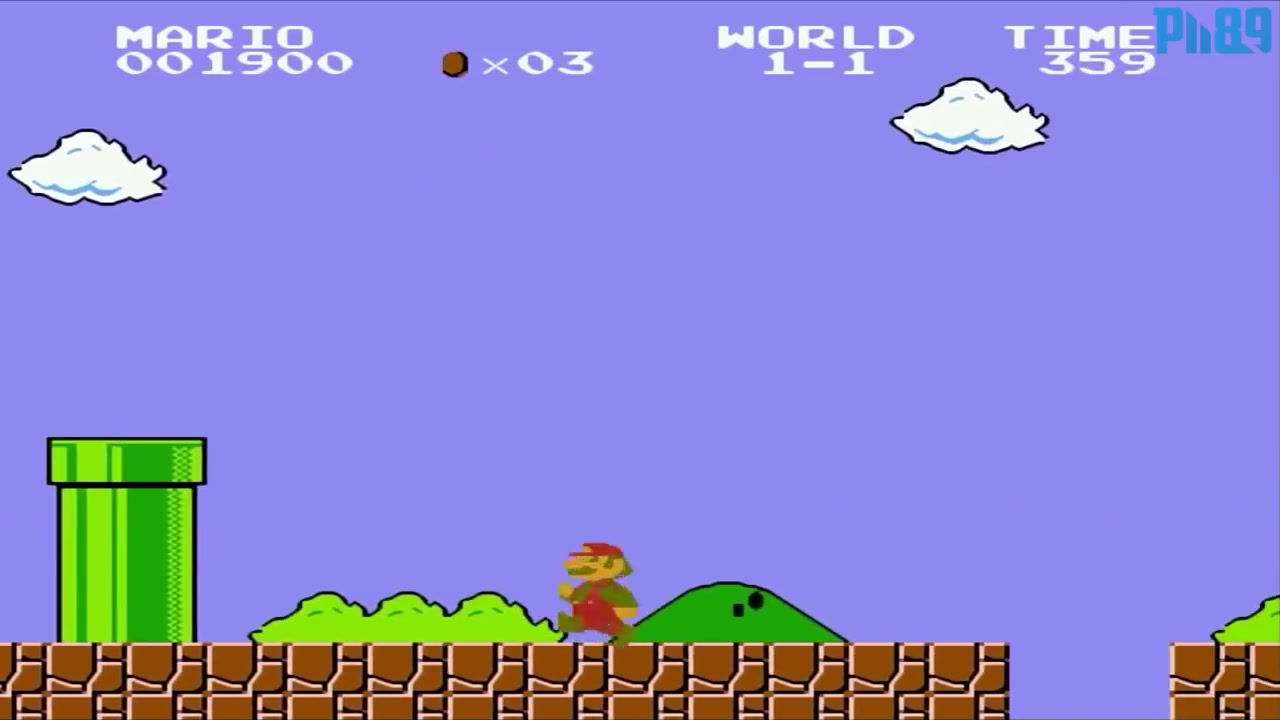mario: (535, 533, 643, 648)
